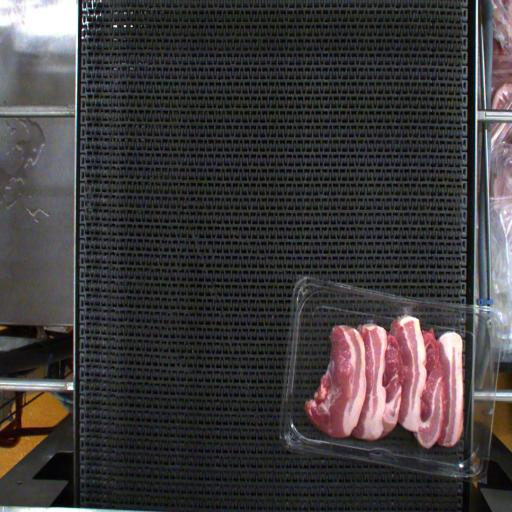packaging-error: (394, 301, 421, 327)
